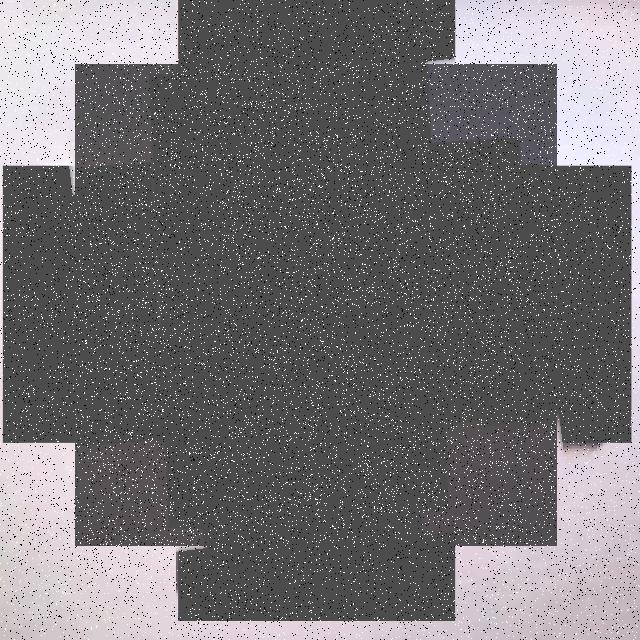lima puluh ribu rupiah: (75, 64, 557, 546)
